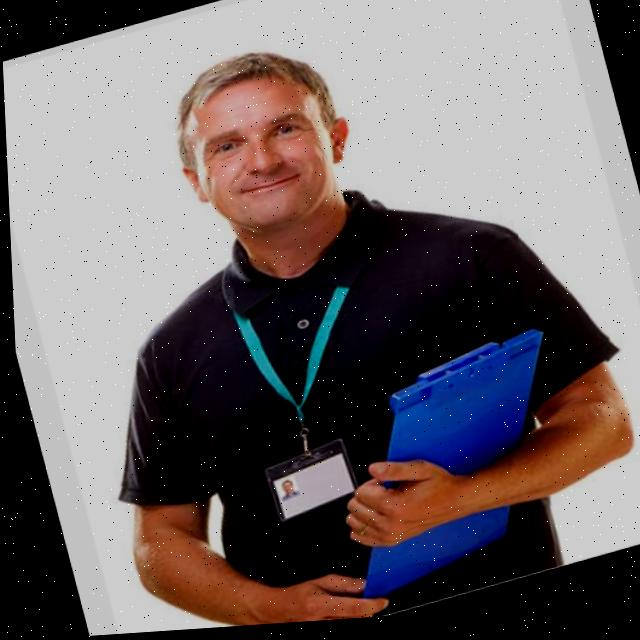id_card: (203, 252, 393, 535)
